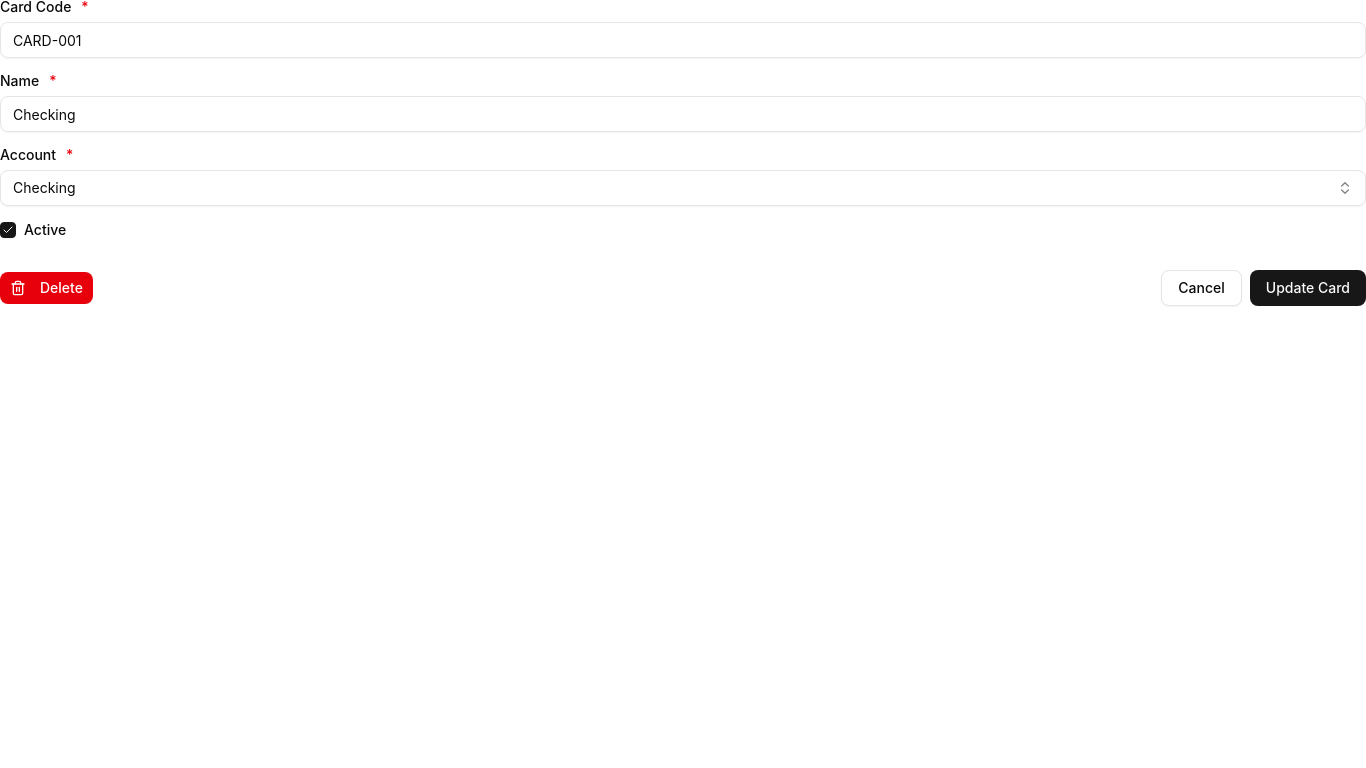
CardForm › shows confirmation dialog when delete button is clicked
The width and height of the screenshot is (1366, 768).
Click the button "Delete" at {"x": 46, "y": 288}, box [0,272,93,304]
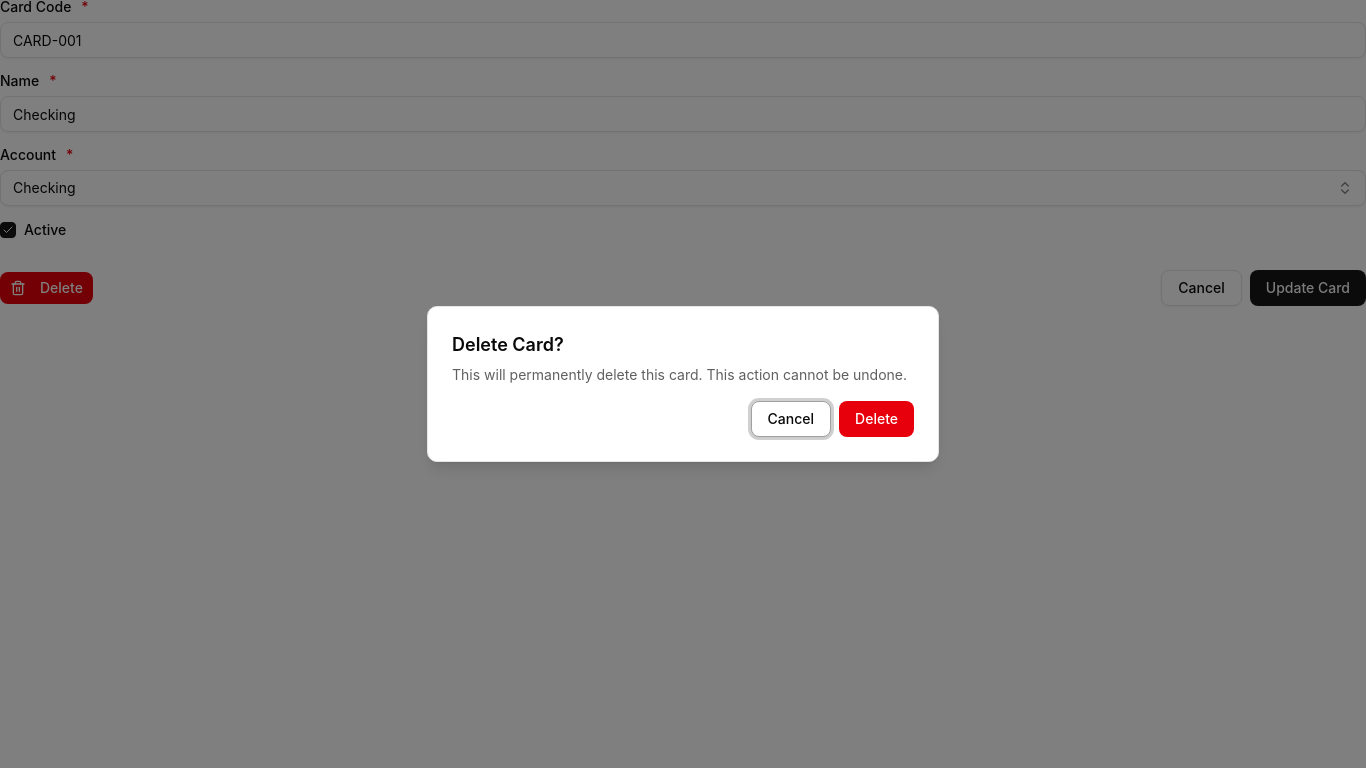
expect the heading "Delete Card?" is shown: met, box [452,331,564,359]
expect the text "permanently delete" is shown: met, box [452,366,907,383]
